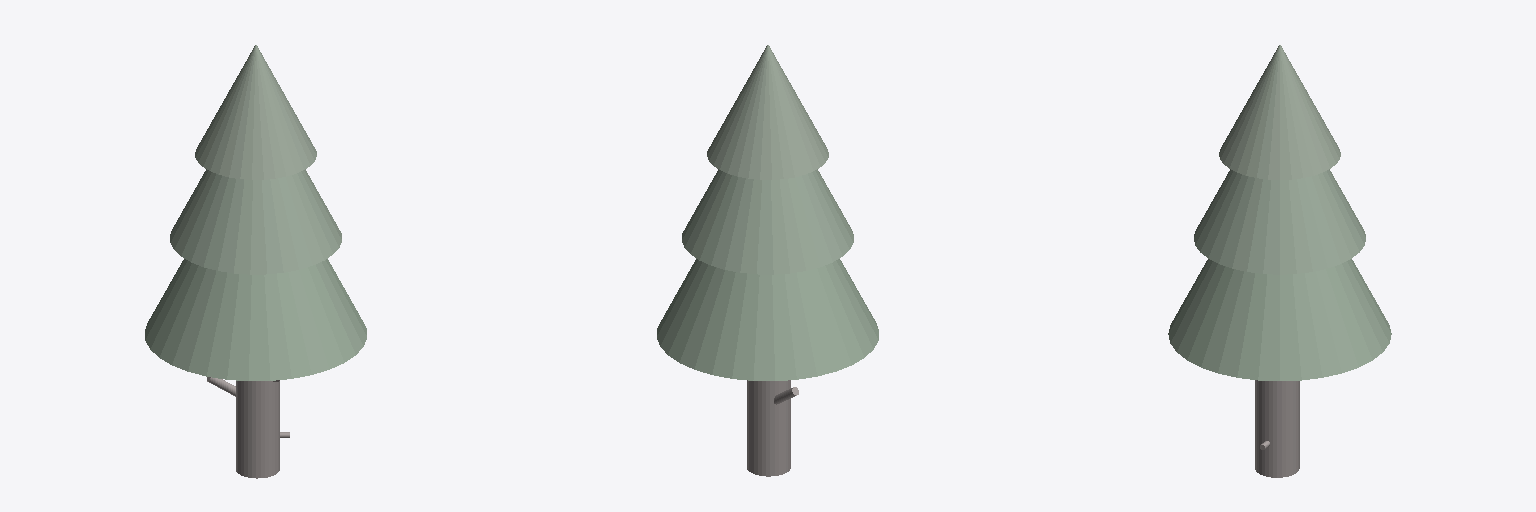
The model's file is tree-toon.obj.
3 views of the same model, side by side, from view 1: azimuth 30°, elevation 25°; view 2: azimuth 150°, elevation 25°; view 3: azimuth 270°, elevation 25° (orthographic).
Parts seen in each view (by area): view 1: Cone_003, Cone_002, Cone_001, Cylinder; view 2: Cone_003, Cone_002, Cone_001, Cylinder; view 3: Cone_003, Cone_002, Cone_001, Cylinder.
Boxes of the visible parts, x1,y1,x2,y2 form: Cone_003: [145, 259, 366, 380]; Cone_002: [170, 169, 341, 274]; Cone_001: [195, 45, 316, 179]; Cylinder: [236, 381, 279, 478]; Cone_003: [657, 259, 878, 380]; Cone_002: [682, 169, 853, 274]; Cone_001: [707, 45, 828, 179]; Cylinder: [747, 380, 790, 476]; Cone_003: [1168, 259, 1391, 380]; Cone_002: [1194, 169, 1365, 274]; Cone_001: [1219, 45, 1340, 179]; Cylinder: [1255, 380, 1299, 477].
Bounding box in the file's own units: 3.66 × 7.68 × 3.66.